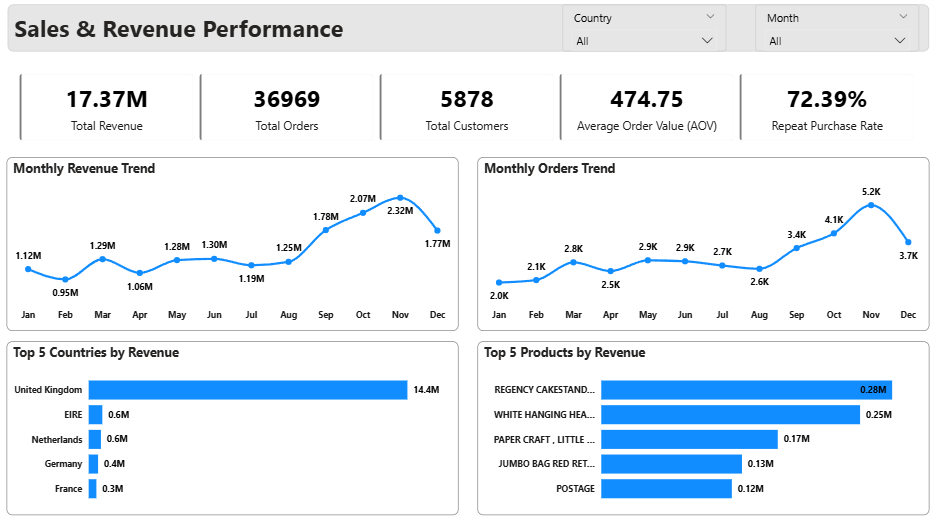

The dashboard page shown, as its layout file describes it:
{"tool":"powerbi","page":{"name":"Executive Overview","canvas":[1280,720],"ordinal":0},"visuals":[{"type":"textbox","box":[10.9,7.8,1258.9,64.1],"z":0},{"type":"cardVisual","fields":{"Data":["Sum(orders.Revenue)","Count(orders.Invoice)","Count(orders.CustomerID)","Avg(monthly_kpi.AOV)","_Measures.Repeat Purchase Rate"]},"box":[9.4,84.4,1260.5,125.1],"z":1000},{"type":"lineChart","title":"Monthly Revenue Trend","fields":{"Y":["Sum(orders.Revenue)"],"Category":["orders.Month"]},"box":[9.4,215.8,617.7,237.7],"z":2000},{"type":"lineChart","title":"Monthly Orders Trend","fields":{"Y":["Count(orders.Invoice)"],"Category":["orders.Month"]},"box":[652.1,215.8,617.7,237.7],"z":3000},{"type":"barChart","title":"Top 5 Countries by Revenue","fields":{"Category":["orders.Country"],"Y":["Sum(orders.Revenue)"]},"box":[9.4,467.6,617.7,237.7],"z":4000},{"type":"barChart","title":"Top 5 Products by Revenue","fields":{"Category":["product_sales.Description"],"Y":["Sum(product_sales.Revenue)"]},"box":[652.1,467.6,617.7,237.7],"z":5000},{"type":"slicer","fields":{"Values":["orders.Country"]},"box":[767.9,7.8,223.6,64.1],"z":6000},{"type":"slicer","fields":{"Values":["orders.Month"]},"box":[1032.2,7.8,223.6,64.1],"z":7000}]}

Visuals, with their boxes in screenshot pixels (x1, y1, x2, y2), scaled from the page's 1280x720 canvas onto the 936x524 screenshot:
textbox: {"x1": 8, "y1": 6, "x2": 929, "y2": 52}
cardVisual - Sum(orders.Revenue) x Count(orders.Invoice): {"x1": 7, "y1": 61, "x2": 929, "y2": 152}
"Monthly Revenue Trend" lineChart: {"x1": 7, "y1": 157, "x2": 459, "y2": 330}
"Monthly Orders Trend" lineChart: {"x1": 477, "y1": 157, "x2": 929, "y2": 330}
"Top 5 Countries by Revenue" barChart: {"x1": 7, "y1": 340, "x2": 459, "y2": 513}
"Top 5 Products by Revenue" barChart: {"x1": 477, "y1": 340, "x2": 929, "y2": 513}
slicer - orders.Country: {"x1": 562, "y1": 6, "x2": 725, "y2": 52}
slicer - orders.Month: {"x1": 755, "y1": 6, "x2": 918, "y2": 52}
